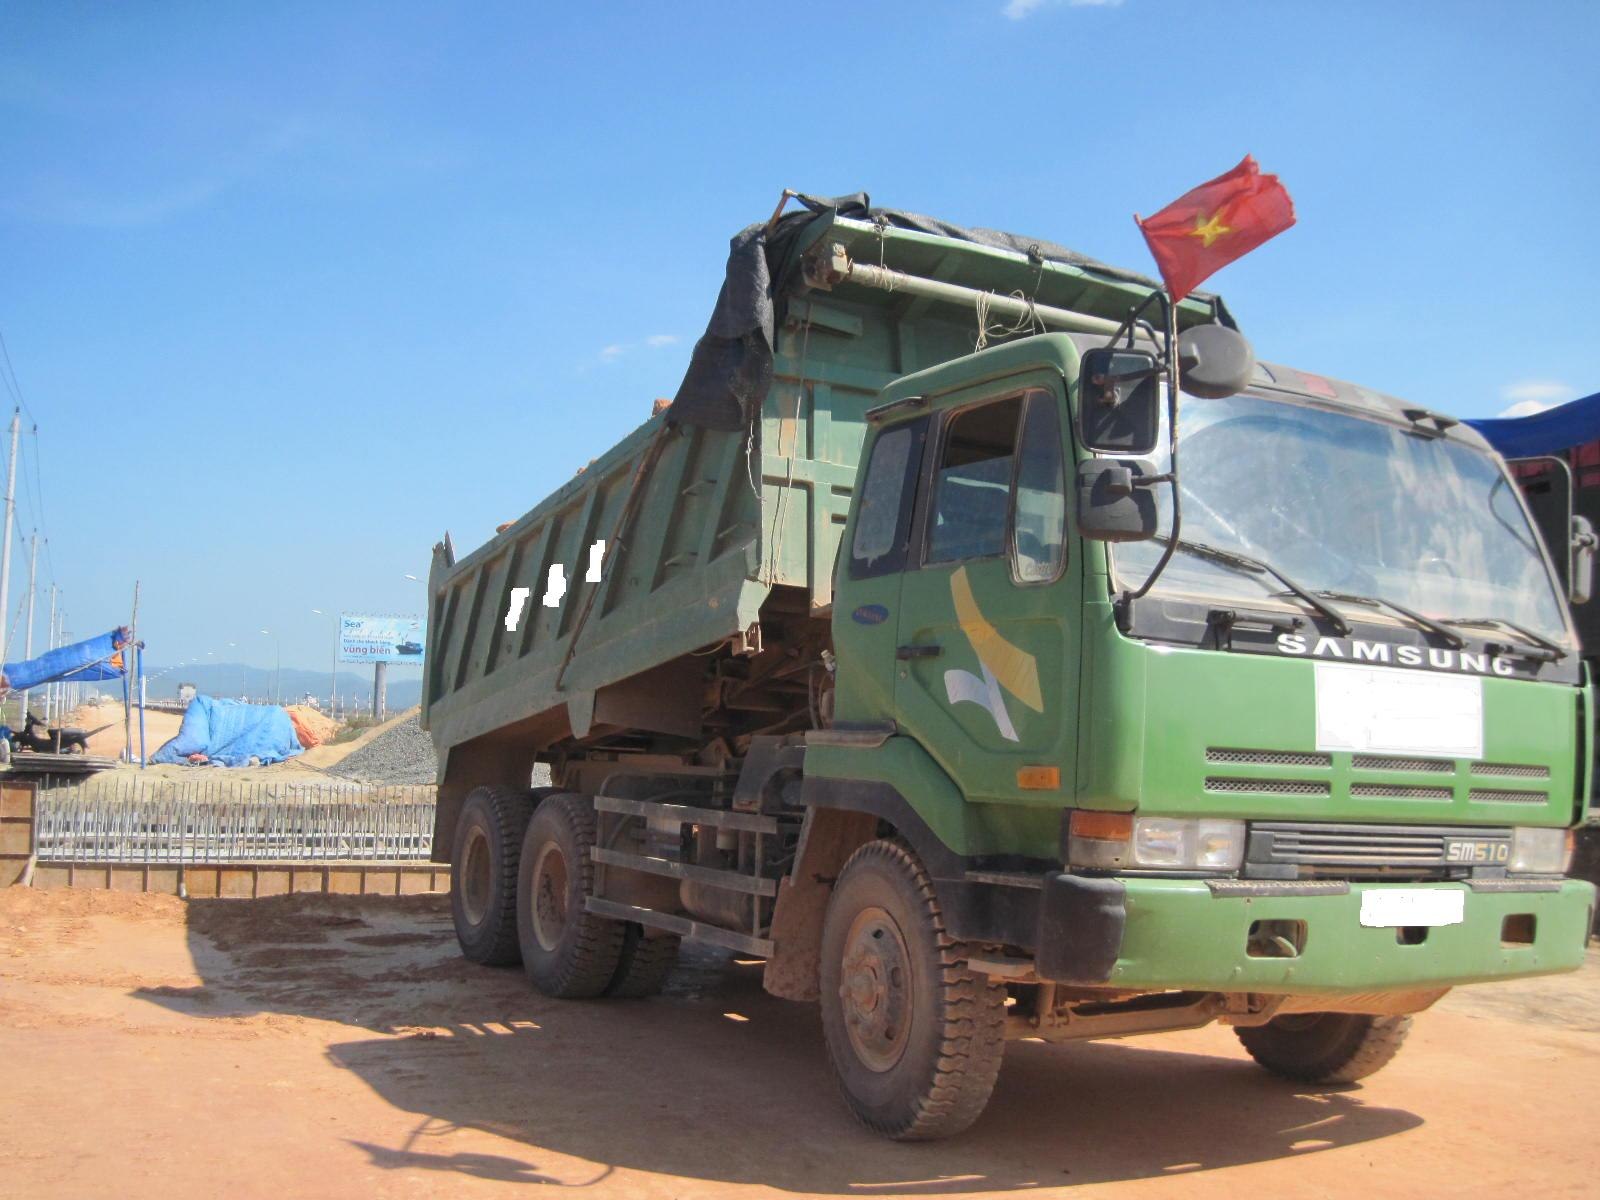truck: (384, 197, 1600, 1153)
